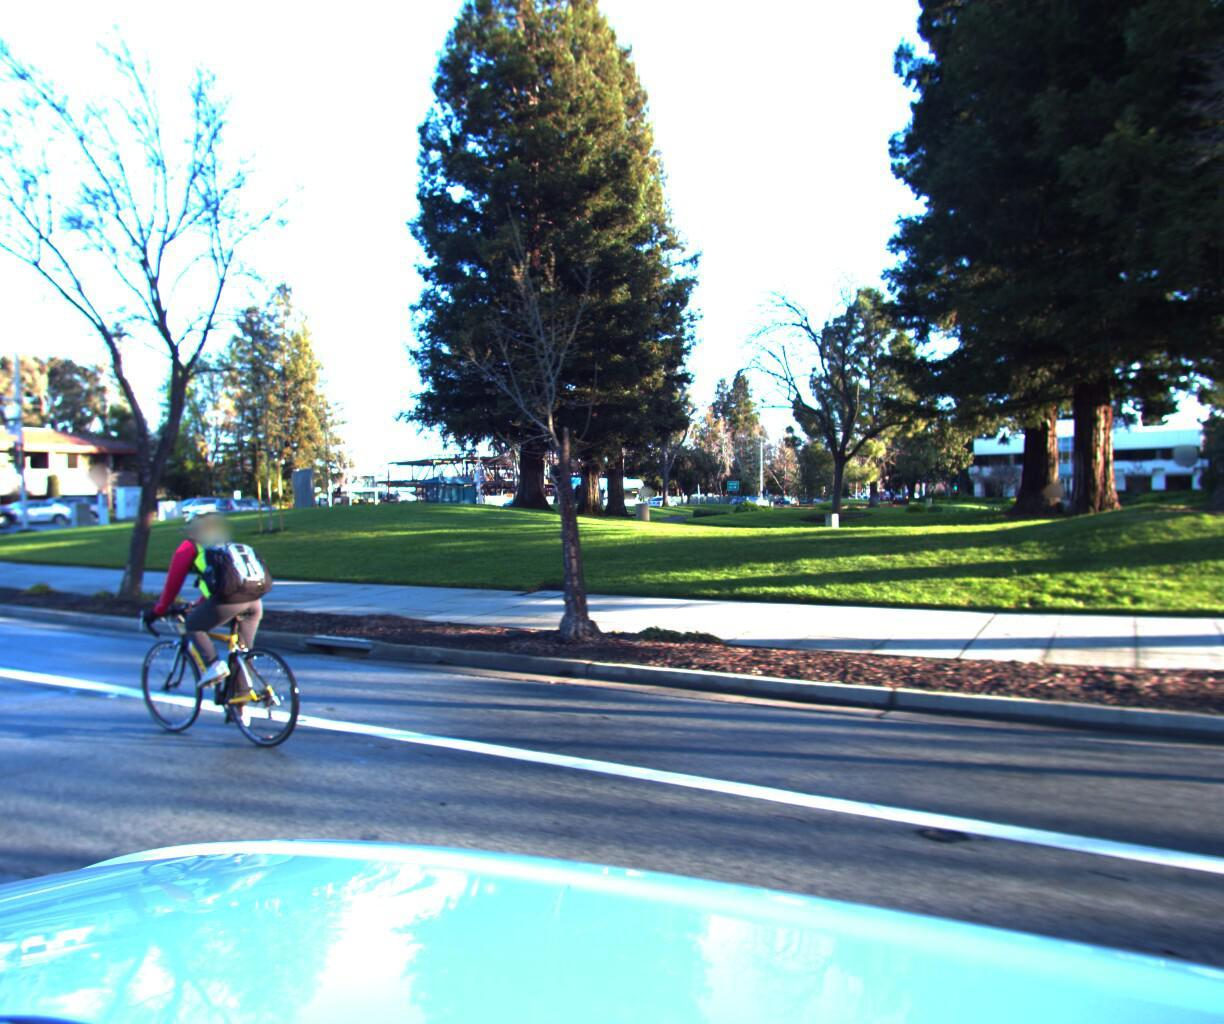bicycle: (69, 483, 331, 778)
car: (212, 496, 292, 527), (0, 496, 78, 527), (160, 492, 231, 517), (0, 493, 29, 531)
